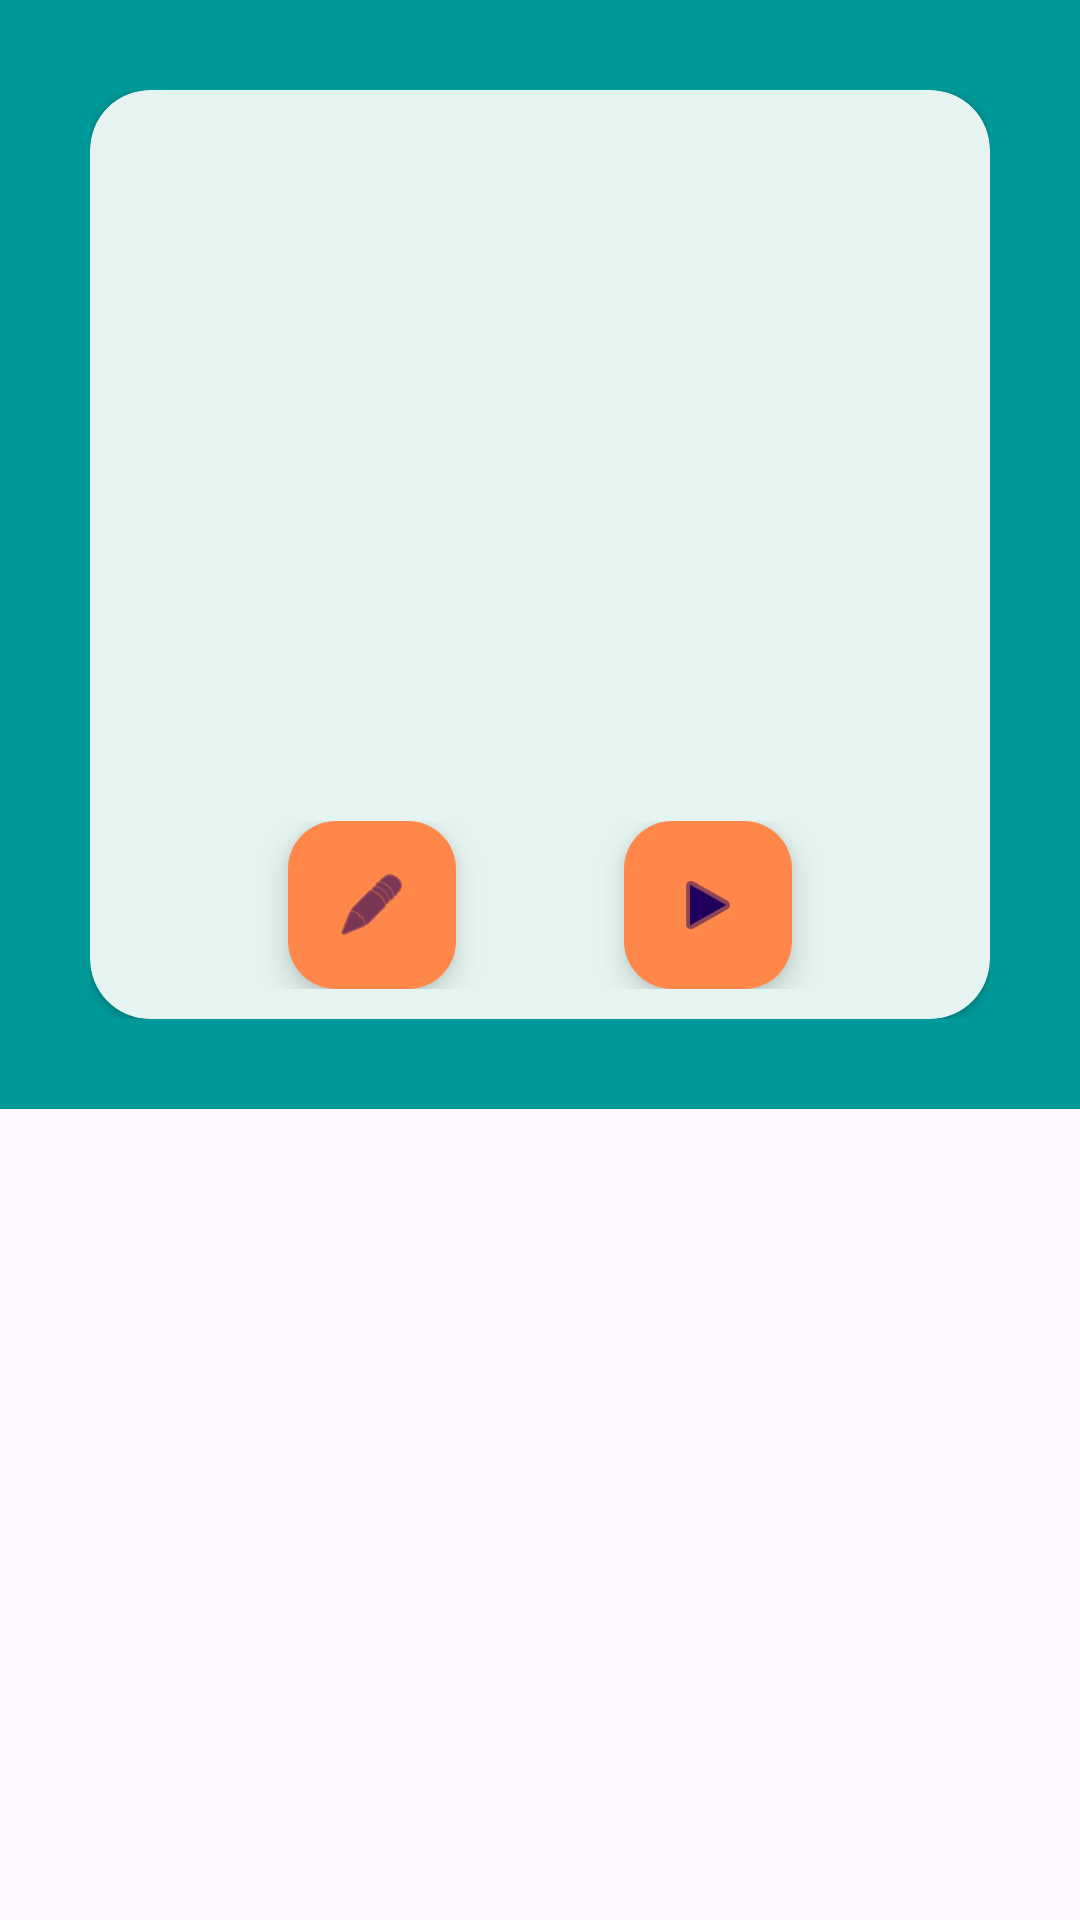

Icons on this 1080 x 1920 Android screen, each with the point to tap as (x,y):
edit: (372,905)
play: (708,905)
